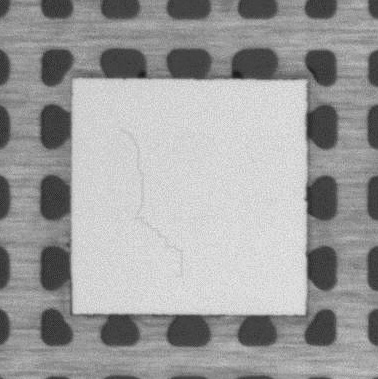DIE_CRACK: (116, 128, 185, 276)
